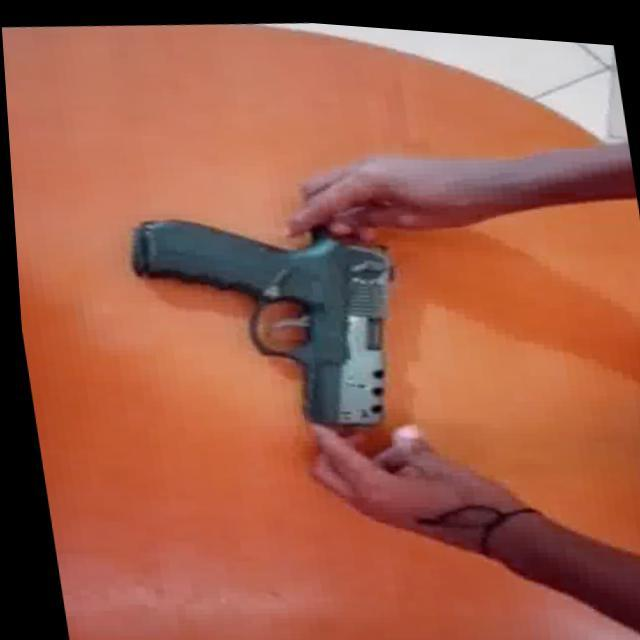weapon: (119, 192, 417, 449)
